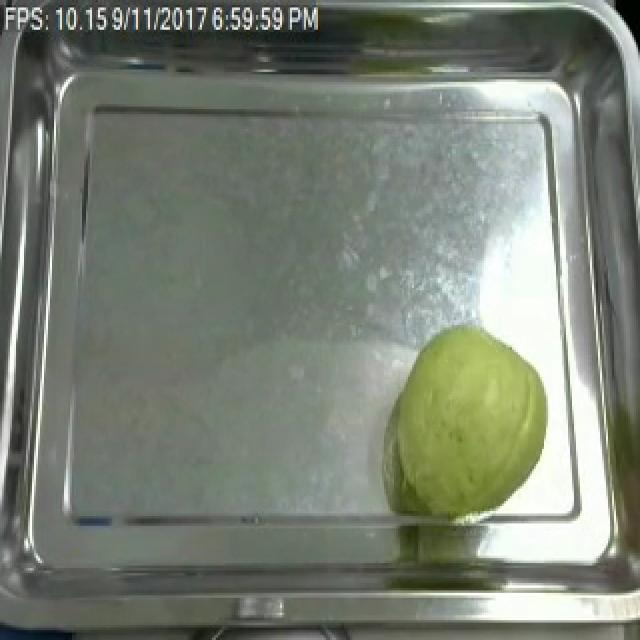Fruit: (378, 317, 562, 526)
